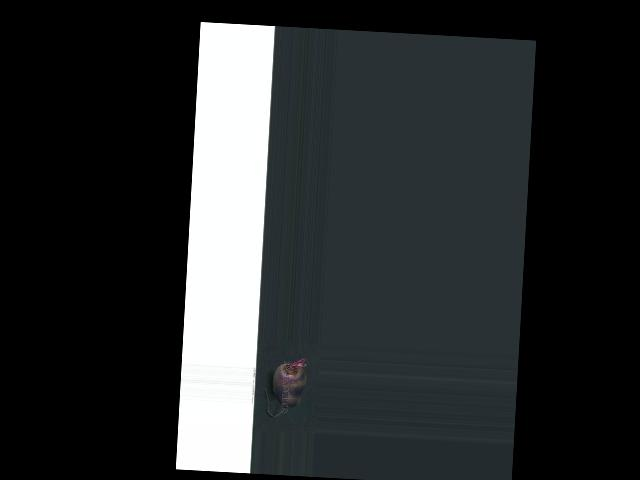beet: (263, 354, 307, 418)
